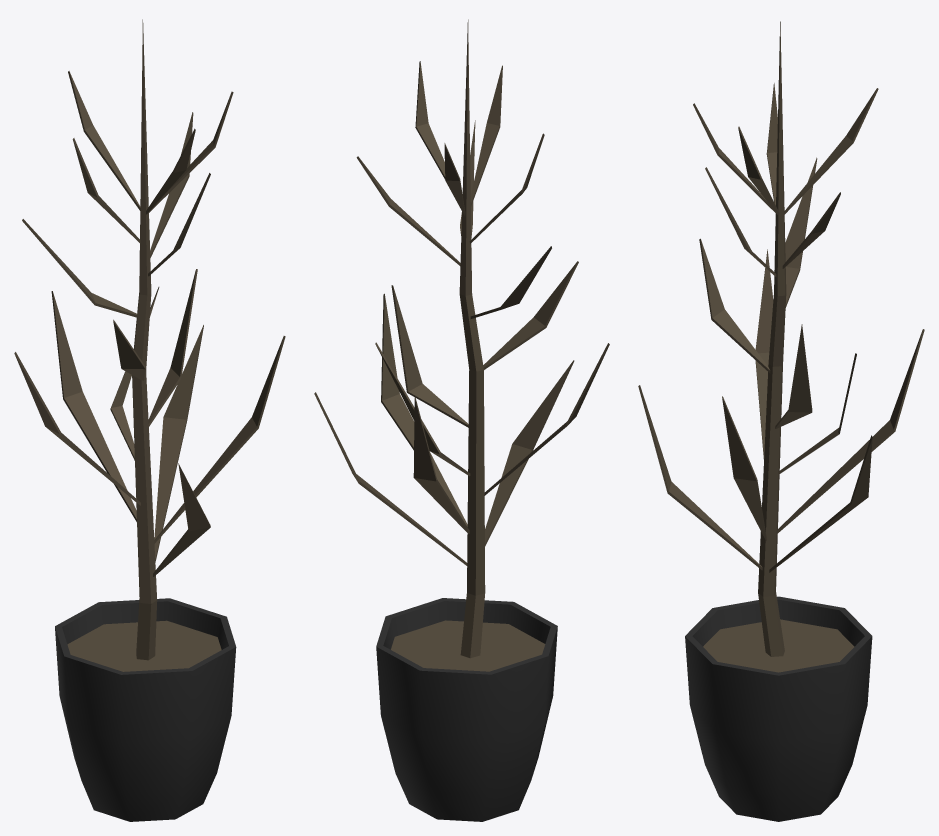
Rendered from Houseplant_8.glb.
3 views of the same model, side by side, from view 1: azimuth 30°, elevation 25°; view 2: azimuth 150°, elevation 25°; view 3: azimuth 270°, elevation 25° (orthographic).
Visible parts, largest first — view 1: Houseplant_8_Cylinder.027; view 2: Houseplant_8_Cylinder.027; view 3: Houseplant_8_Cylinder.027.
Boxes of the visible parts, <box> form: Houseplant_8_Cylinder.027: <box>14,19,285,821</box>; Houseplant_8_Cylinder.027: <box>314,19,609,821</box>; Houseplant_8_Cylinder.027: <box>638,21,924,821</box>.
Bounding box in the file's own units: 0.5171 × 1.56 × 0.5171.
